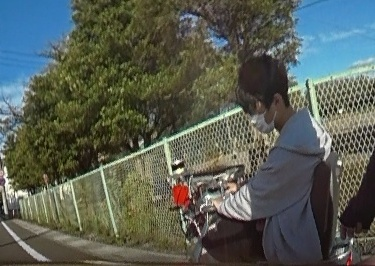person: (215, 52, 331, 266)
